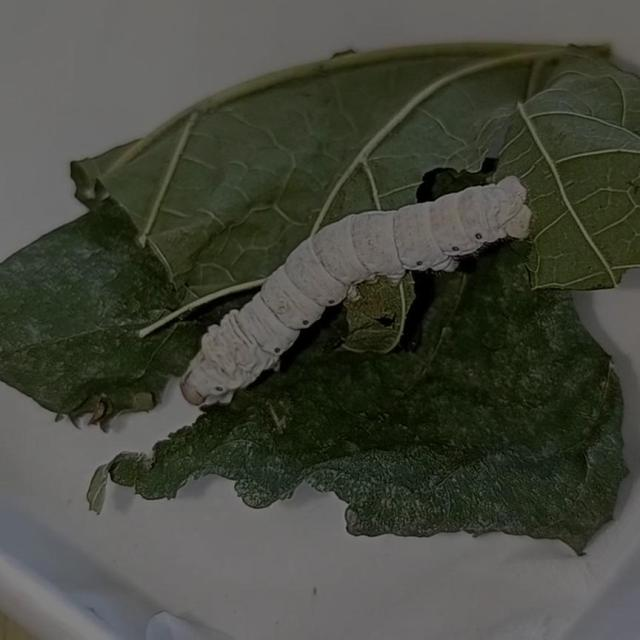Healthy: (170, 169, 534, 420)
